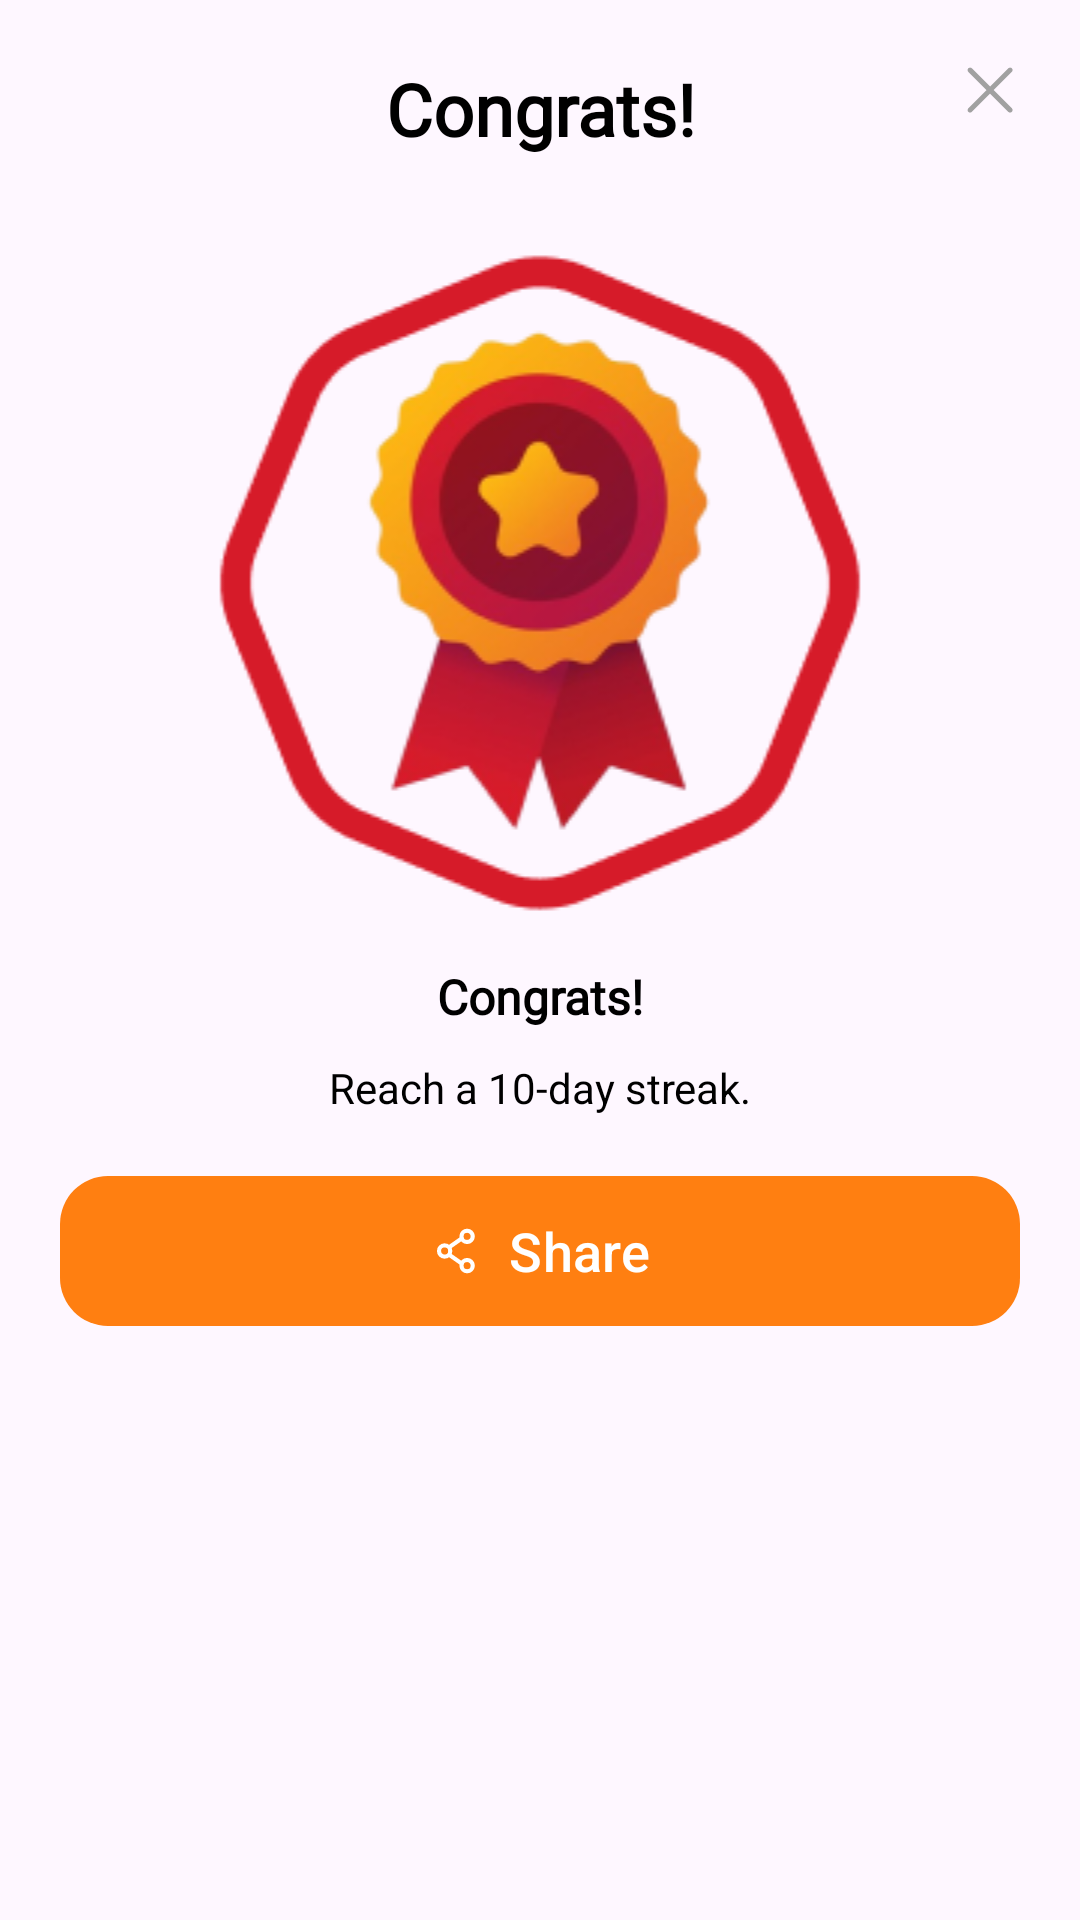

Point at icon controls on the screen. Image size 1080px x 1920px, points as (x,y).
close: (990,90)
